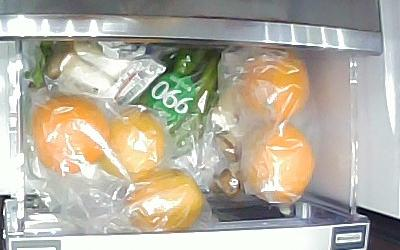orange_vinyl: (33, 95, 110, 175), (244, 122, 314, 204), (127, 168, 203, 231), (102, 109, 165, 183), (239, 56, 308, 121)
